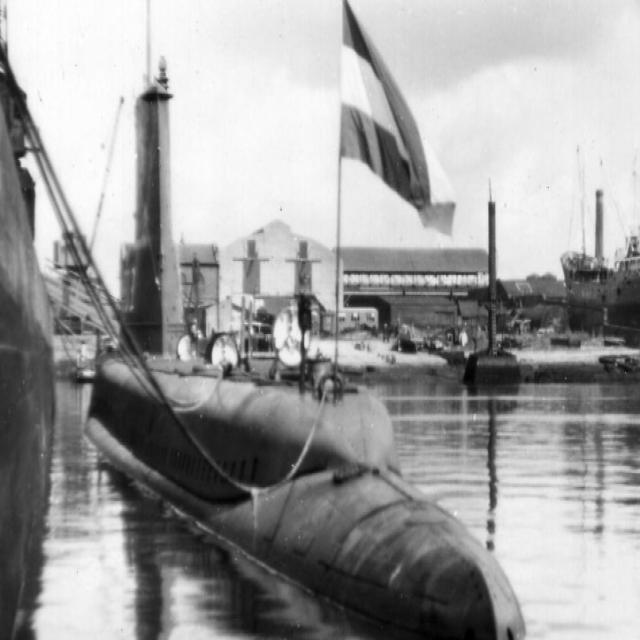submarine: (78, 48, 535, 640)
